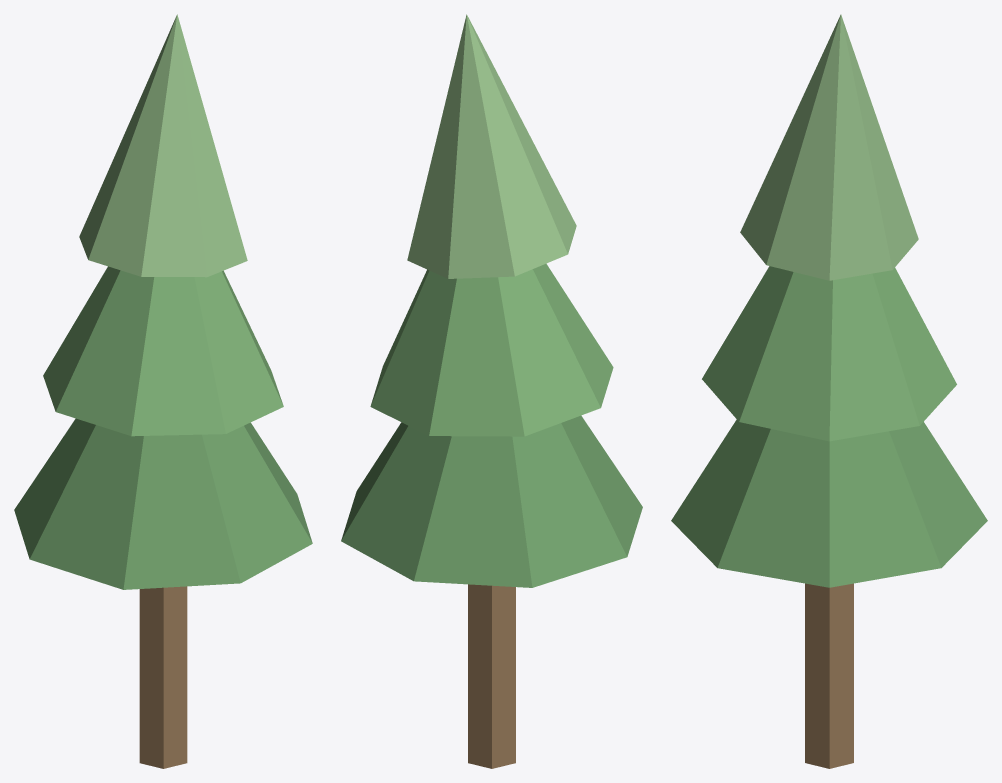
File: animprop_pine_00.glb
3 views of the same model, side by side, from view 1: azimuth 30°, elevation 25°; view 2: azimuth 150°, elevation 25°; view 3: azimuth 270°, elevation 25° (orthographic). The views are drawn at different scales.
Parts seen in each view (by area): view 1: animprop; view 2: animprop; view 3: animprop.
Part boxes in pixels (x1,y1,x2,y2): animprop: (14,14,312,768); animprop: (341,14,642,768); animprop: (671,14,987,768).
Bounding box in the file's own units: 1.24 × 3.25 × 1.24.
